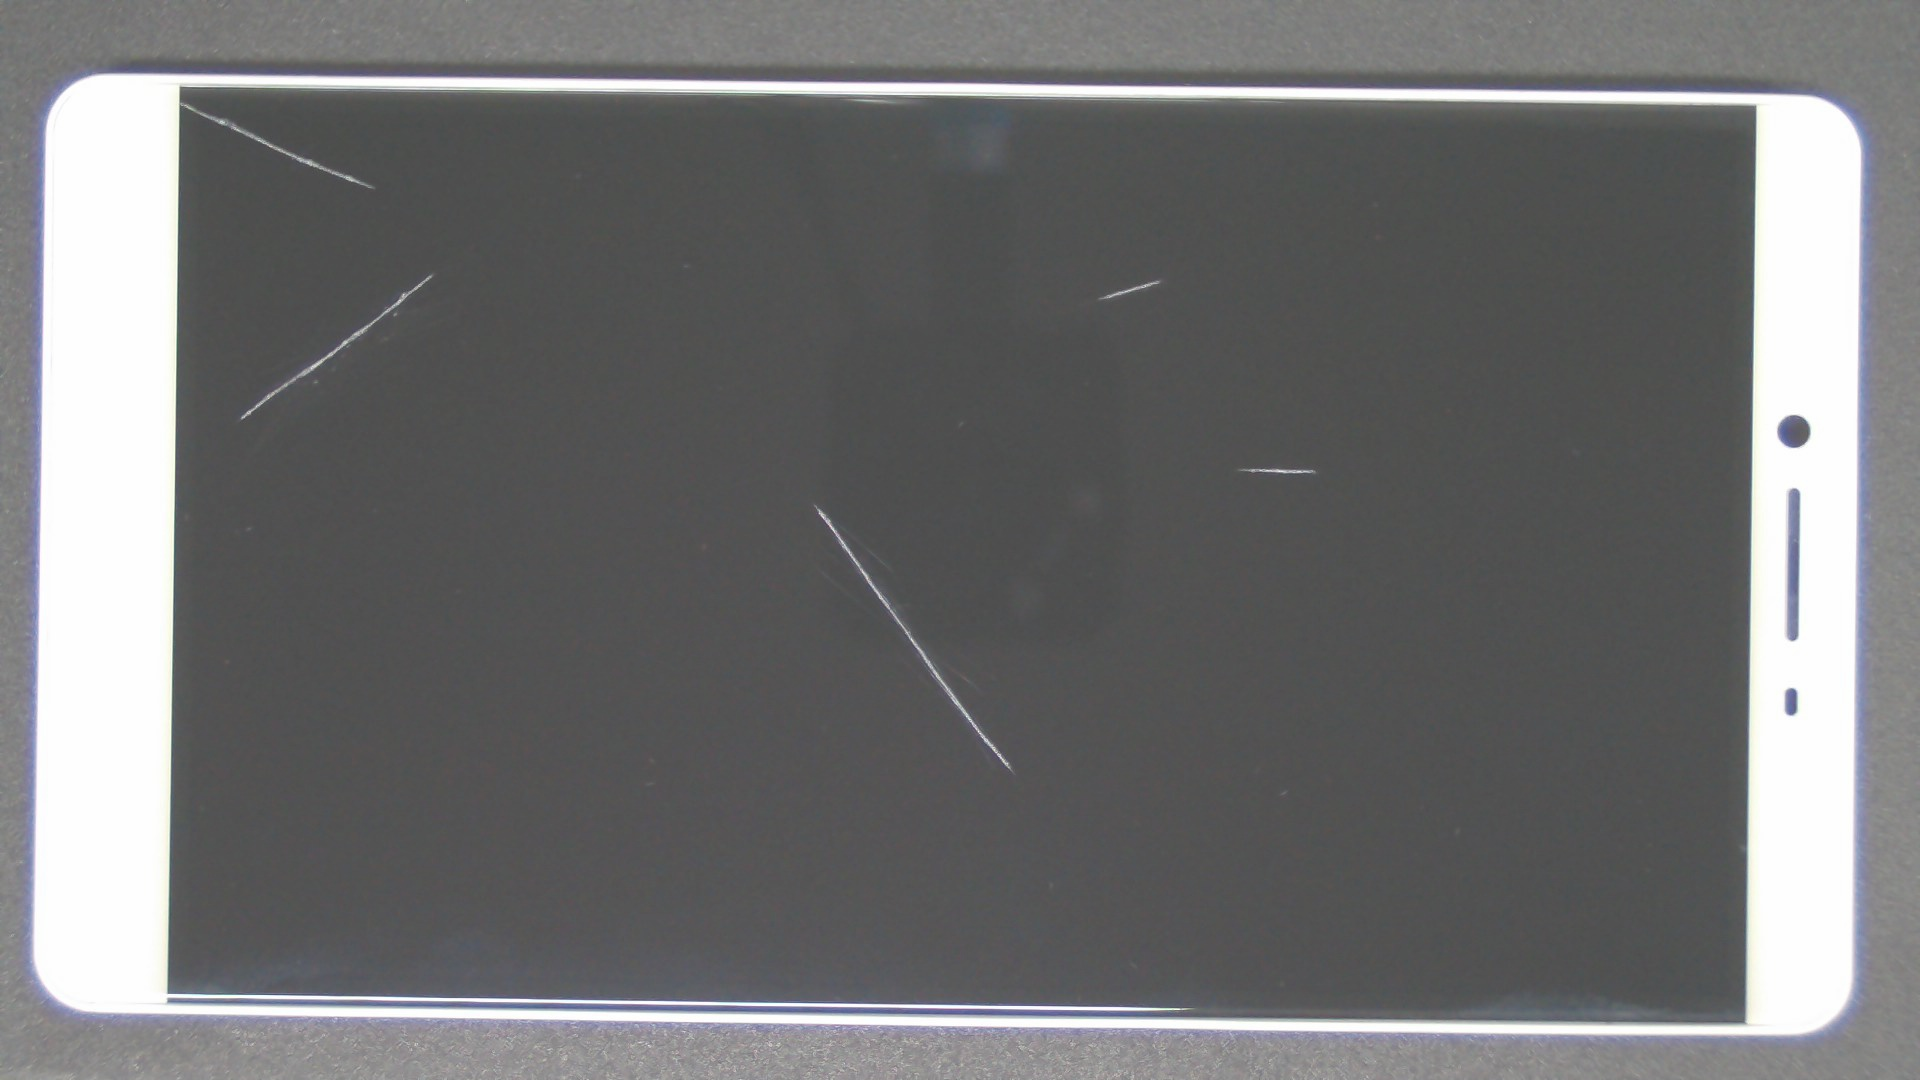oil: (637, 233, 1908, 702), (407, 251, 1218, 756), (580, 138, 1738, 419), (216, 135, 646, 409), (92, 50, 274, 152)
